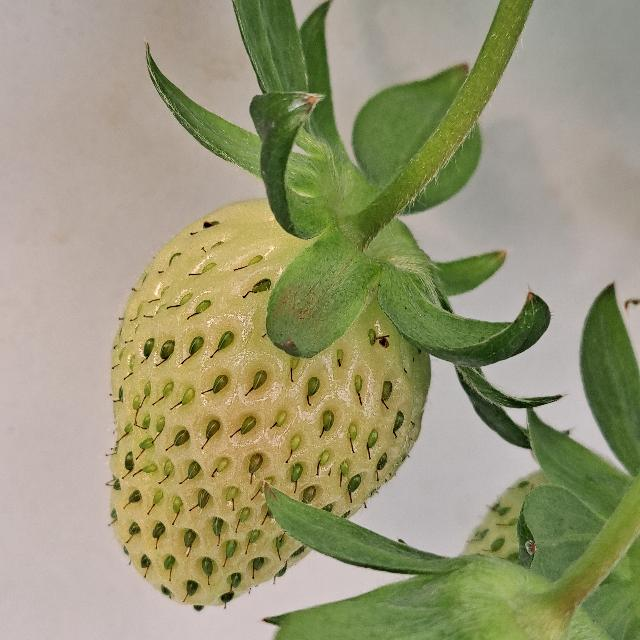Health_25: (109, 197, 431, 605)
